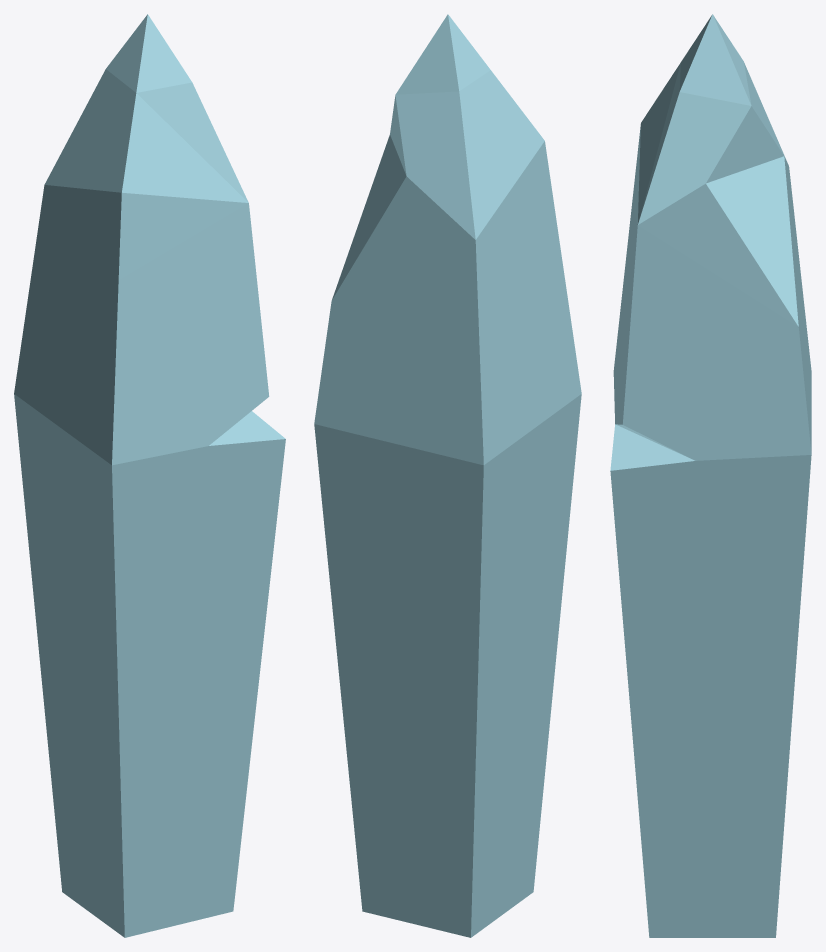
File: Crystal_1.fbx
3 renders of one model, left to right at view 1: azimuth 30°, elevation 25°; view 2: azimuth 150°, elevation 25°; view 3: azimuth 270°, elevation 25°, orthographic.
Visible parts, largest first — view 1: Crystal_1; view 2: Crystal_1; view 3: Crystal_1.
Part boxes in pixels (left/top/right/bottom): Crystal_1: left=14, top=14, right=285, bottom=937; Crystal_1: left=314, top=14, right=581, bottom=937; Crystal_1: left=610, top=14, right=811, bottom=937.
Size of the model in its own units: 77.1 by 77.1 by 379.
